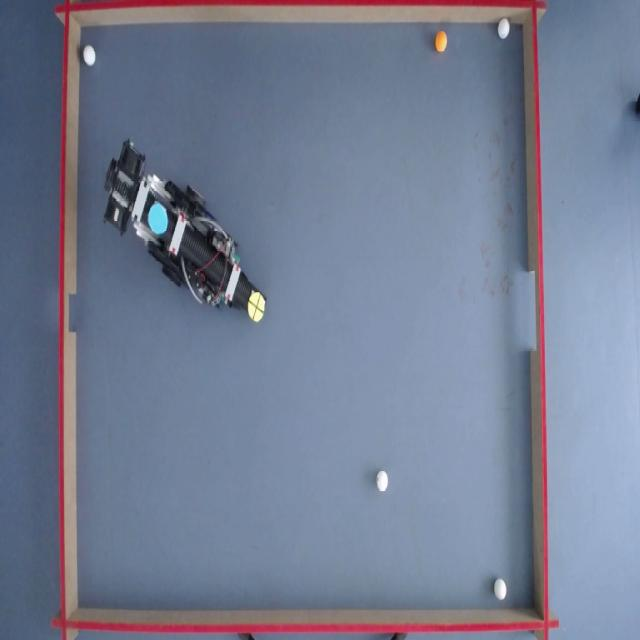orange: (435, 34, 449, 54)
robot: (91, 147, 271, 324)
robot-front: (247, 288, 267, 326)
robot-rear: (149, 202, 170, 237)
white: (495, 578, 509, 602), (83, 46, 97, 68), (498, 18, 512, 39), (376, 470, 388, 492)
